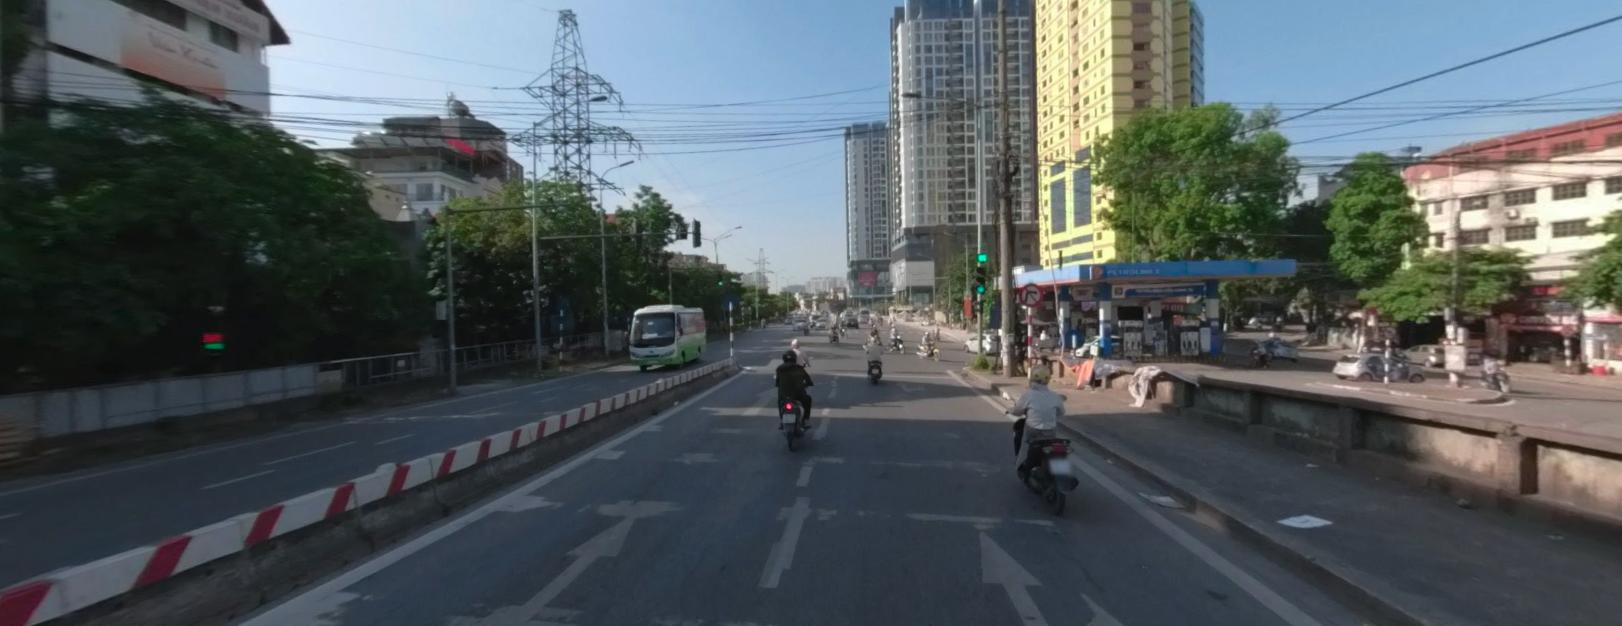Cam con lai: (1384, 325, 1395, 337)
Cam re: (1019, 281, 1042, 305), (1019, 281, 1041, 304)
